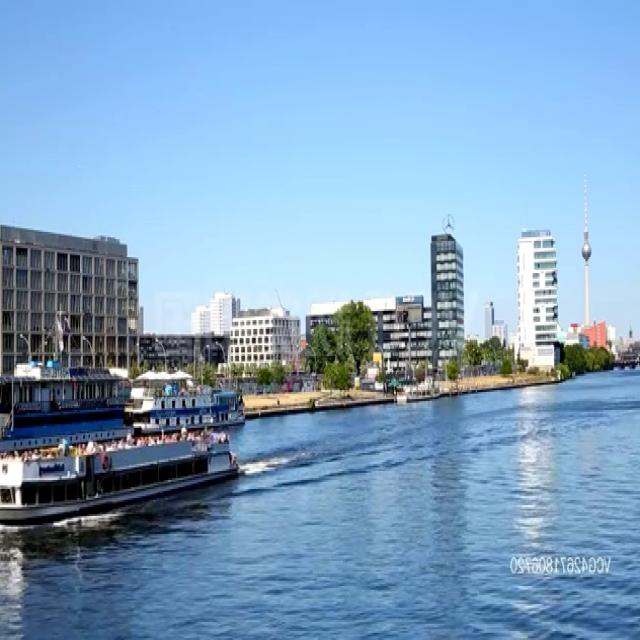passenger ship: (0, 419, 237, 534), (0, 365, 136, 453), (134, 383, 245, 436), (396, 376, 441, 401)
